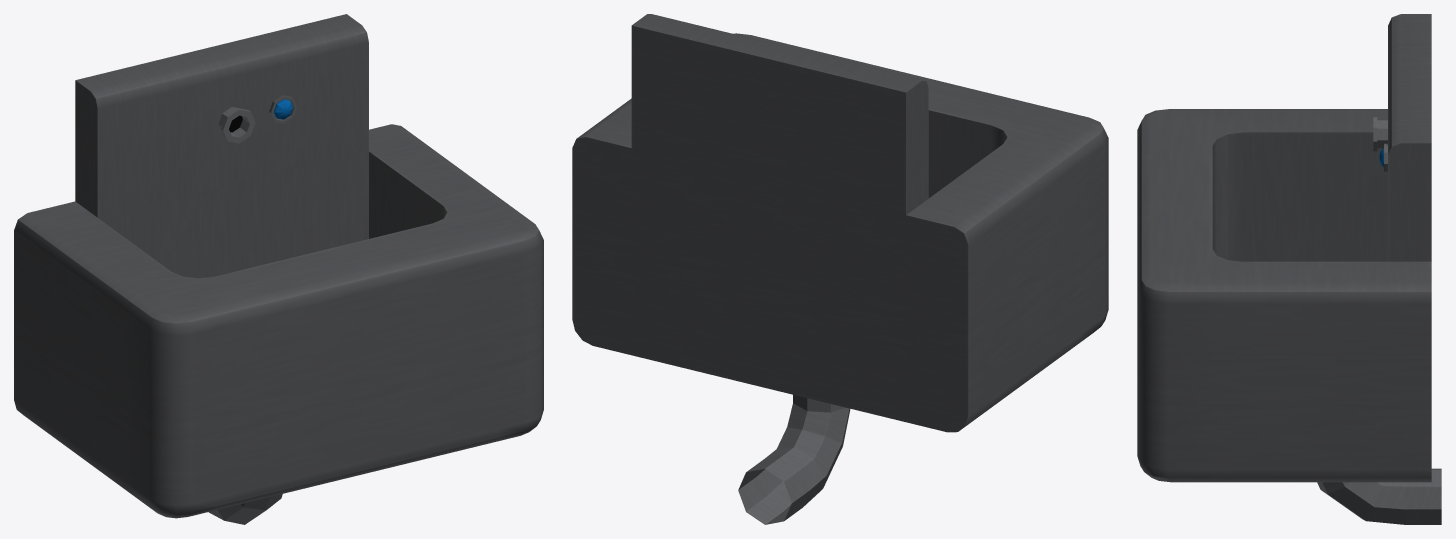
File: ass_22_sink.fbx
The picture shows the model from 3 angles, left to right: view 1: azimuth 30°, elevation 25°; view 2: azimuth 150°, elevation 25°; view 3: azimuth 270°, elevation 25°; orthographic projection. The views are drawn at different scales.
Visible parts, largest first — view 1: polySurface1; view 2: polySurface1; view 3: polySurface1.
Boxes of the visible parts, x1,y1,x2,y2 form: polySurface1: (14, 14, 543, 524); polySurface1: (572, 14, 1108, 524); polySurface1: (1137, 14, 1441, 524).
Bounding box in the file's own units: 60 × 66.88 × 41.38.
5 materials, 5 textured.
